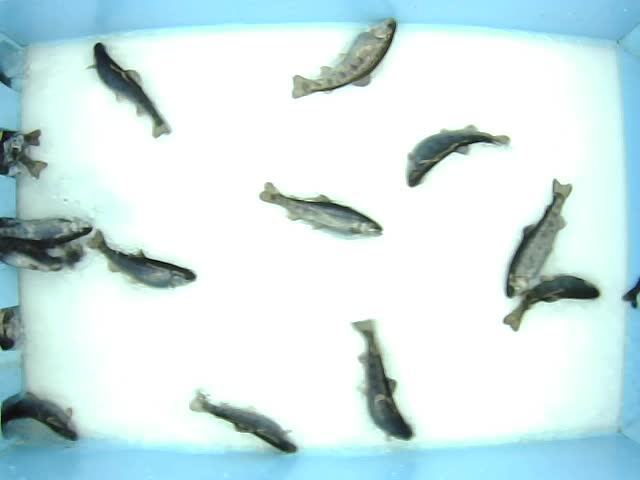fish: (290, 13, 397, 100), (503, 176, 575, 299), (87, 40, 173, 138), (258, 177, 384, 239), (354, 320, 416, 443), (188, 387, 299, 455), (83, 228, 198, 290), (405, 122, 511, 189), (502, 274, 600, 331)
